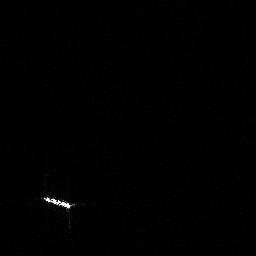ship: (39, 194, 74, 211)
